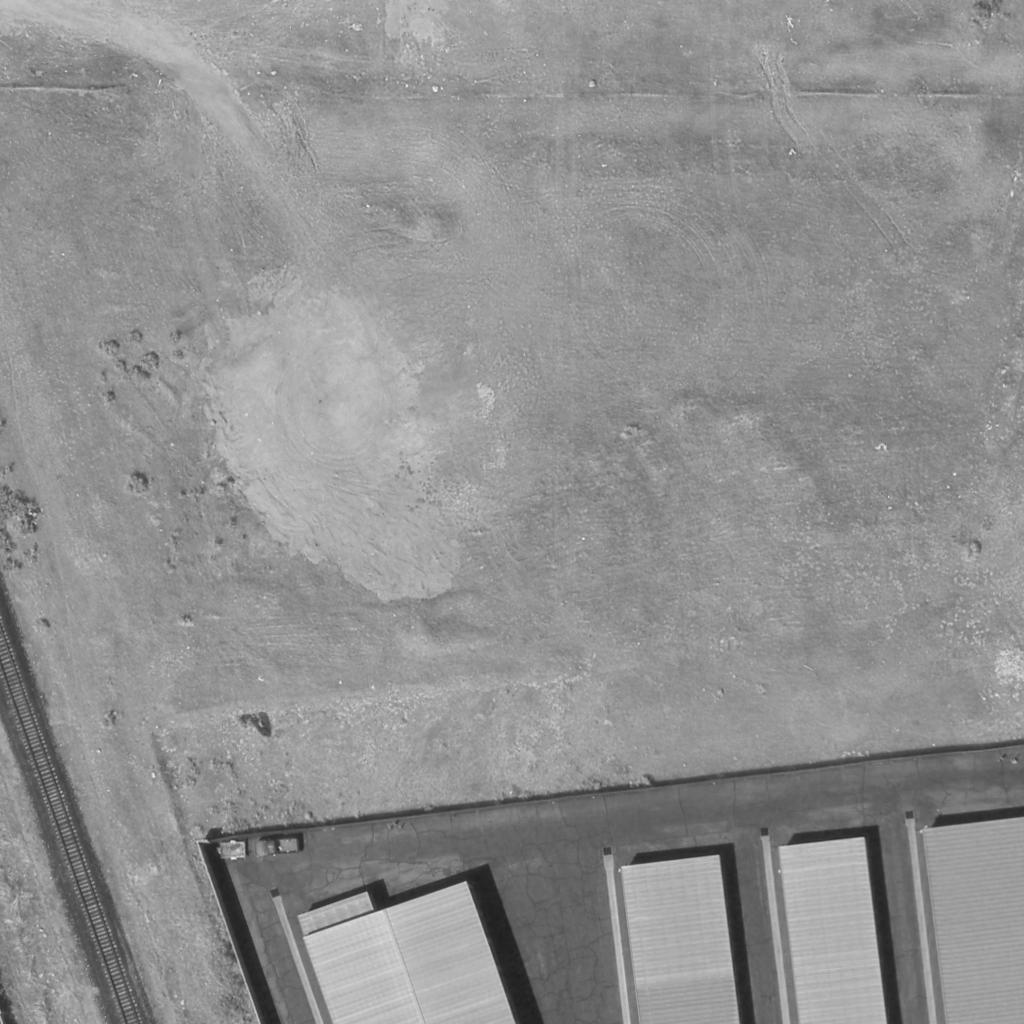vehicle: (254, 839, 298, 859)
